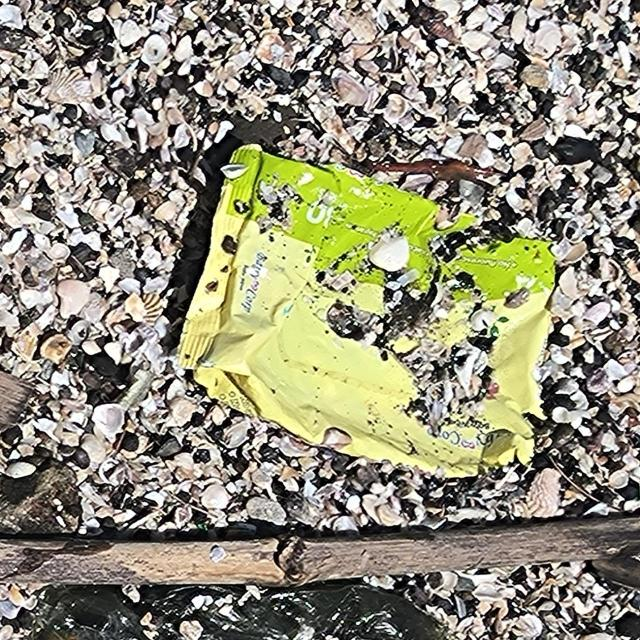plastic_waste: (175, 143, 560, 481)
